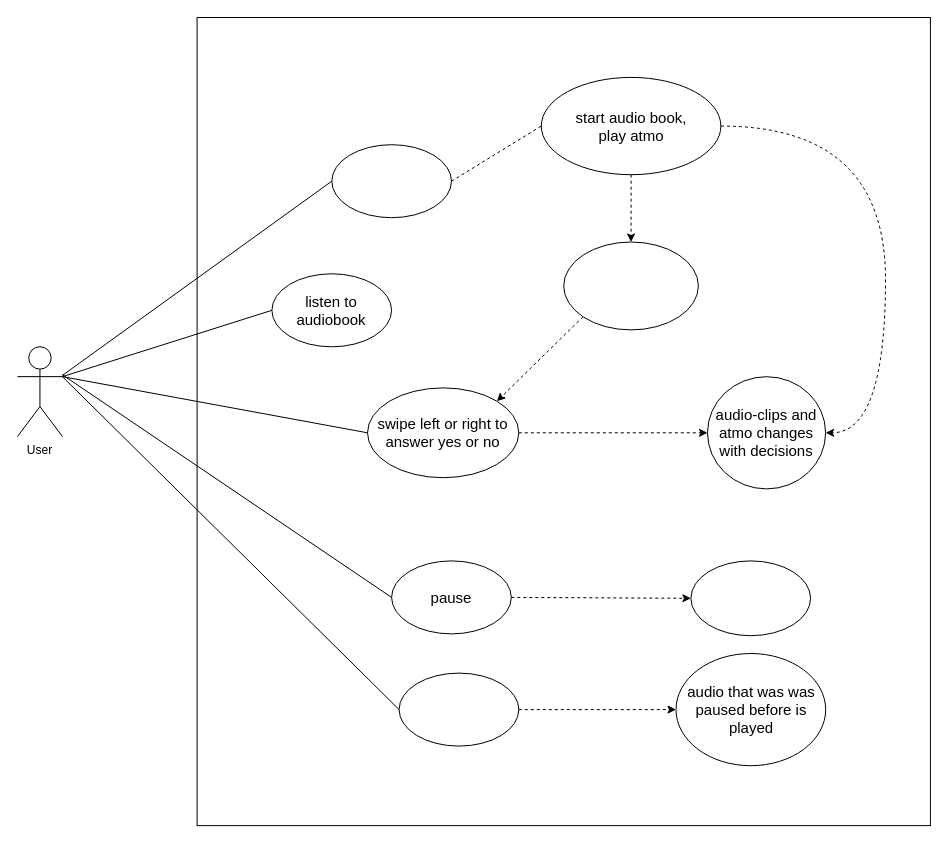
The diagram is 948 pixels wide and 844 high, and some of its shapes have lost their labels. Here are the shapes that lost their labels. From the top down, the centre of each, then its label:
At [391,181]: "start".
At [630,285]: "ask user questions".
At [750,598]: "audio pauses".
At [458,709]: "play".
